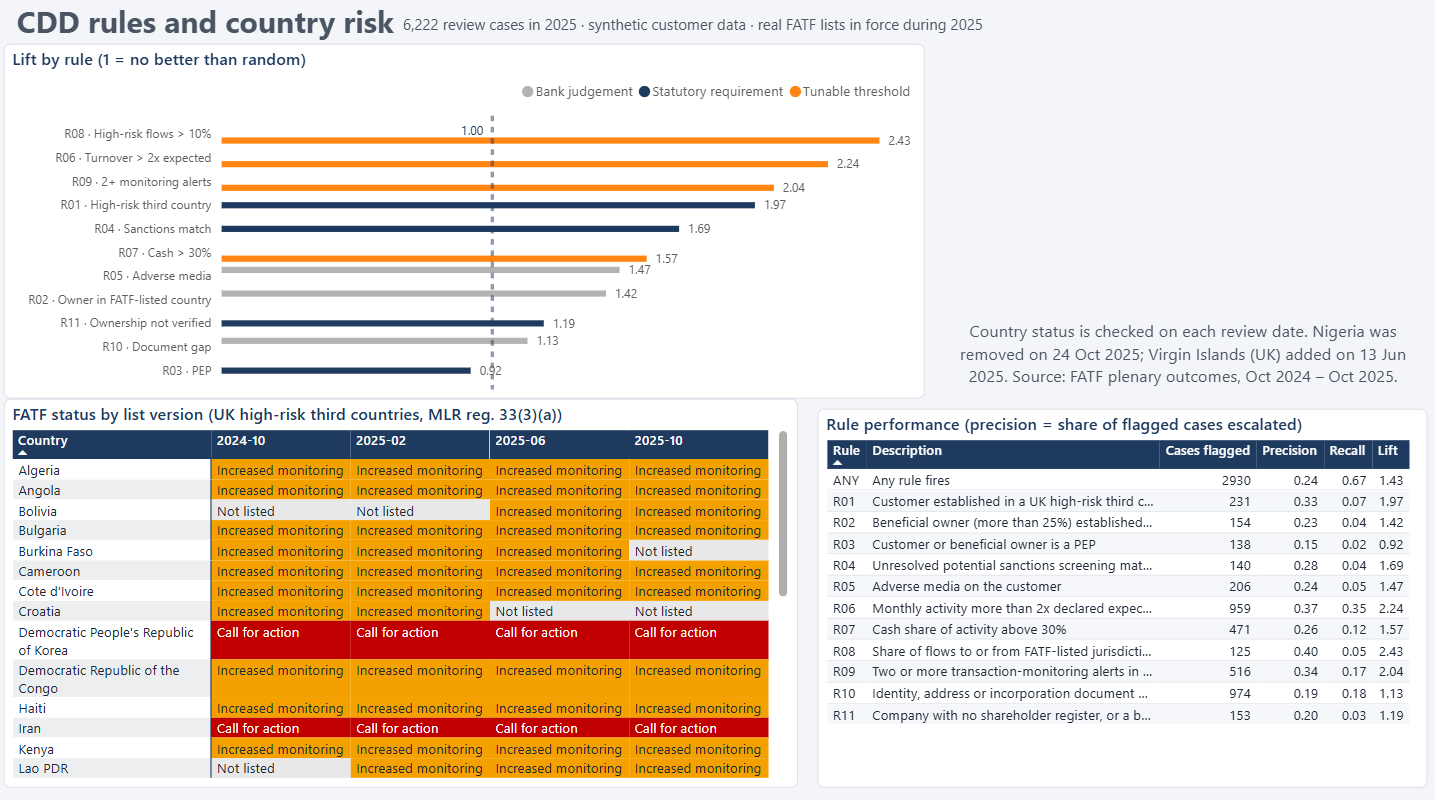

Layout of this report page (visuals, bound fields, positions):
{"tool":"powerbi","page":{"name":"Rules and country risk","canvas":[1280,720],"ordinal":2},"visuals":[{"type":"textbox","box":[9.8,0,385.5,61.2],"z":0},{"type":"clusteredBarChart","title":"Lift by rule (1 = no better than random)","fields":{"Y":["Sum(rule_effectiveness.lift)"],"Series":["cdd_rules.Rule type"],"Category":["cdd_rules.Rule"]},"box":[3.6,43.4,820.4,316.1],"z":1000},{"type":"tableEx","title":"Rule performance (precision = share of flagged cases escalated)","fields":{"Values":["rule_effectiveness.rule_code","rule_effectiveness.description","rule_effectiveness.cases_flagged","rule_effectiveness.precision","rule_effectiveness.recall","rule_effectiveness.lift"]},"box":[727.5,368,542.9,337.8],"z":2000},{"type":"pivotTable","title":"FATF status by list version (UK high-risk third countries, MLR reg. 33(3)(a))","fields":{"Rows":["fatf_status_history.country_name"],"Columns":["fatf_status_history.list_version.Variation.Date Hierarchy.Year"],"Values":["Min(fatf_status_history.fatf_status)"]},"box":[3.7,368.4,706.2,337.8],"z":3000},{"type":"textbox","box":[837.3,283.5,433.1,84.5],"z":4000},{"type":"textbox","box":[353.7,12.2,589.9,39.2],"z":5000}]}

Visuals, with their boxes in screenshot pixels (x1, y1, x2, y2), scaled from the page's 1280x720 canvas onto the 1435x800 screenshot:
textbox: region(11, 0, 443, 68)
"Lift by rule (1 = no better than random)" clusteredBarChart: region(4, 48, 924, 399)
"Rule performance (precision = share of flagged cases escalated)" tableEx: region(816, 409, 1424, 784)
"FATF status by list version (UK high-risk third countries, MLR reg. 33(3)(a))" pivotTable: region(4, 409, 796, 785)
textbox: region(939, 315, 1424, 409)
textbox: region(397, 14, 1058, 57)
